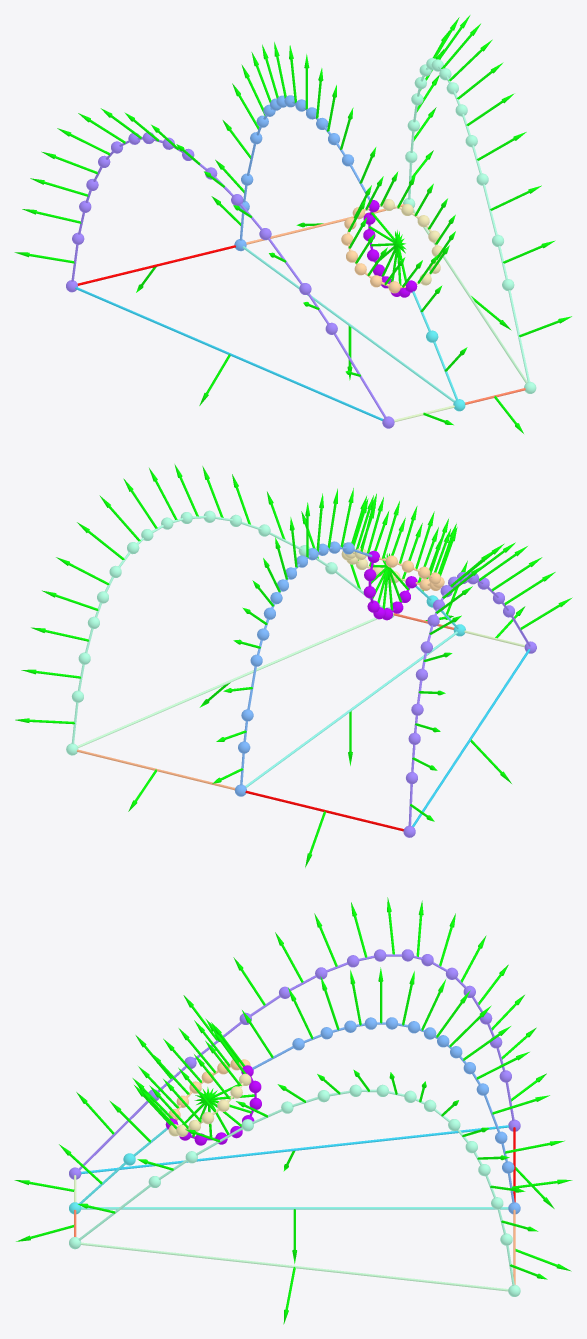
File: onshape_simple_mouse.gltf
The picture shows the model from 3 angles, top to bottom: view 1: azimuth 30°, elevation 25°; view 2: azimuth 150°, elevation 25°; view 3: azimuth 270°, elevation 25°; orthographic projection.
Bounding box in the file's own units: 0.7826 × 0.5275 × 0.8977.
